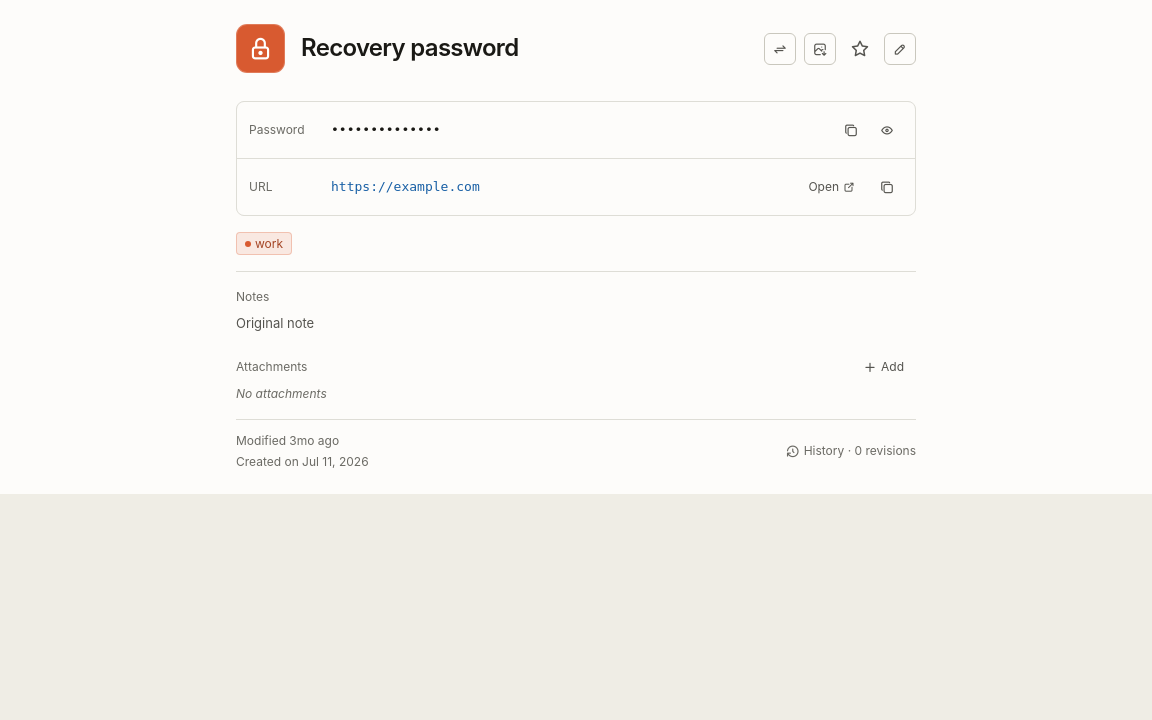
Test: ItemDetail errors › keeps editing and shows save failures
The image size is (1152, 720).
Click the button named "Edit entry" at (900, 48), box [884, 32, 916, 64]
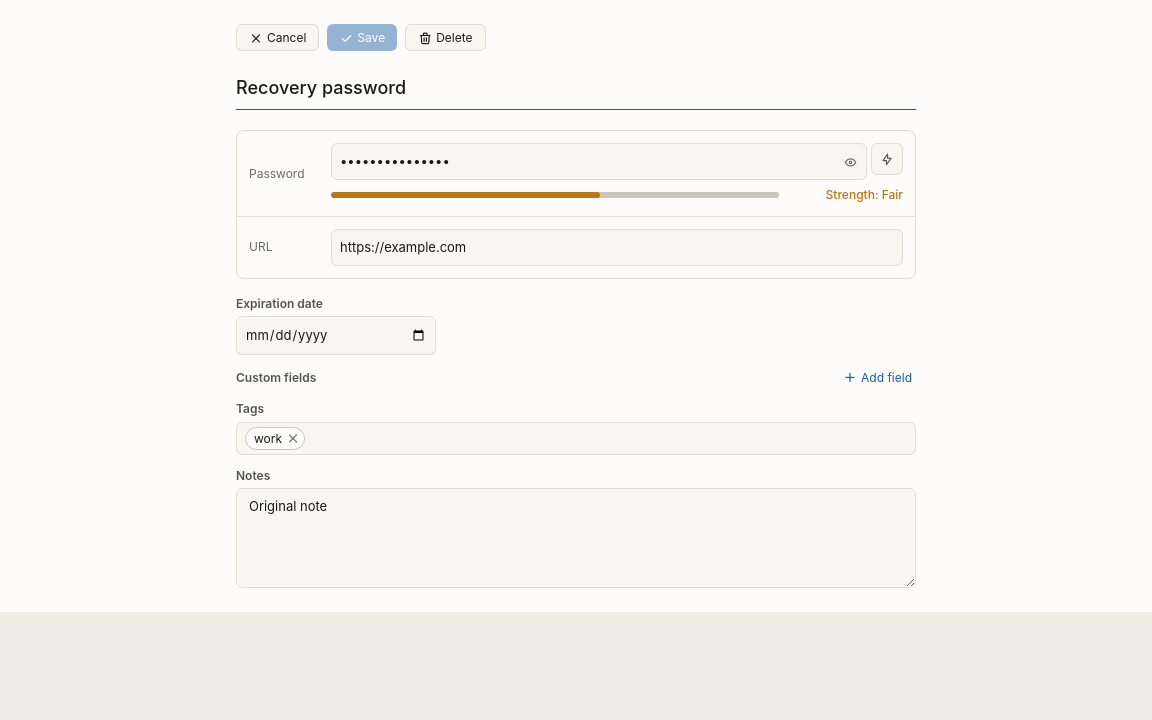
Expected: the password field with placeholder "Password" is shown, [331, 144, 867, 180]
Replace the text in the text box with placeholder "Notes" with "Trigger a save" at (576, 538), box [236, 488, 916, 588]
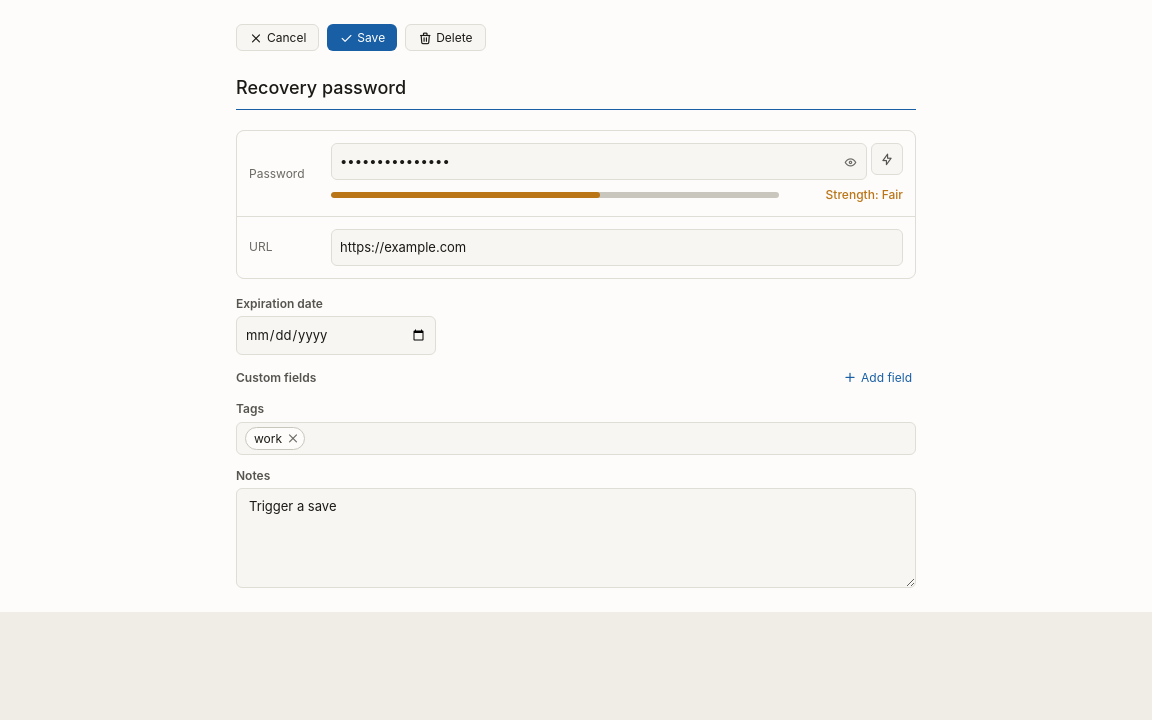
Click the button "Save" at (362, 38), box [327, 24, 397, 51]
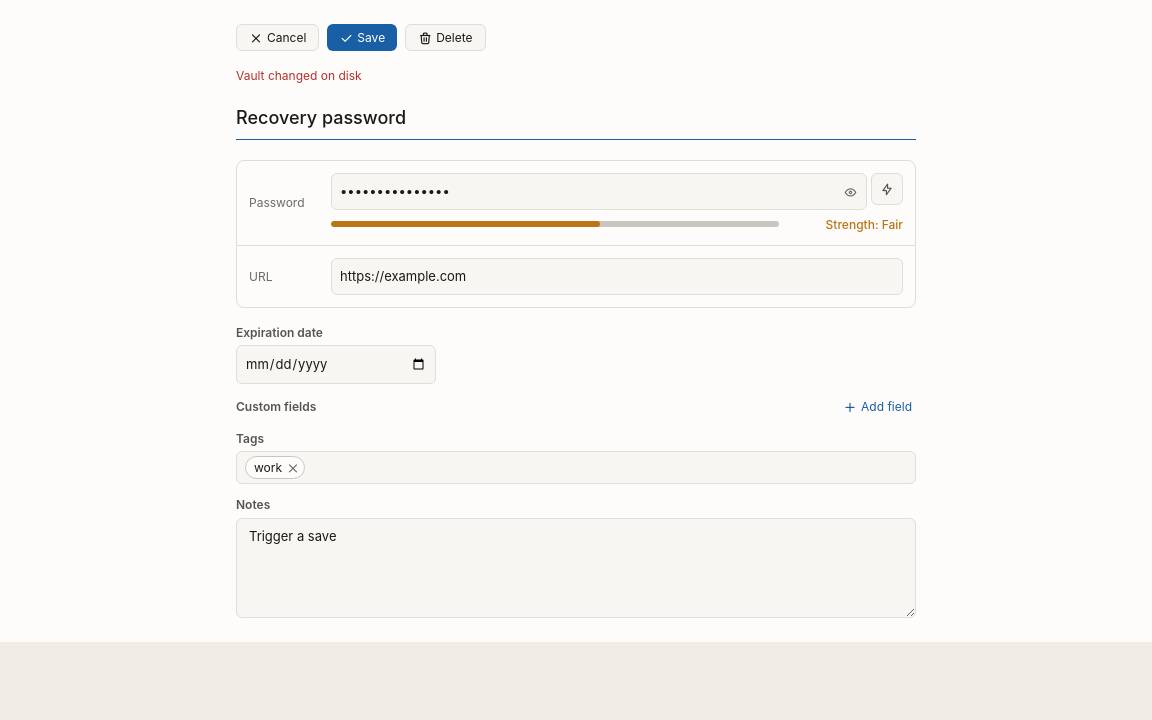
Expected: the button "Save" is shown, [327, 24, 397, 51]
Expected: the text "Vault changed on disk" is shown, [236, 68, 362, 83]
